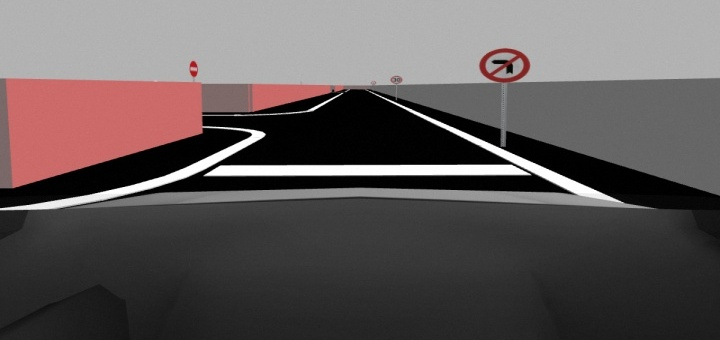sola_donulmez: (479, 48, 533, 85)
